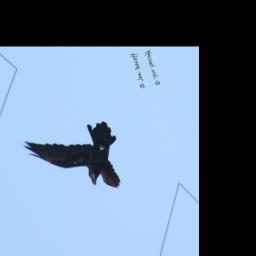Crow: (20, 120, 131, 203)
